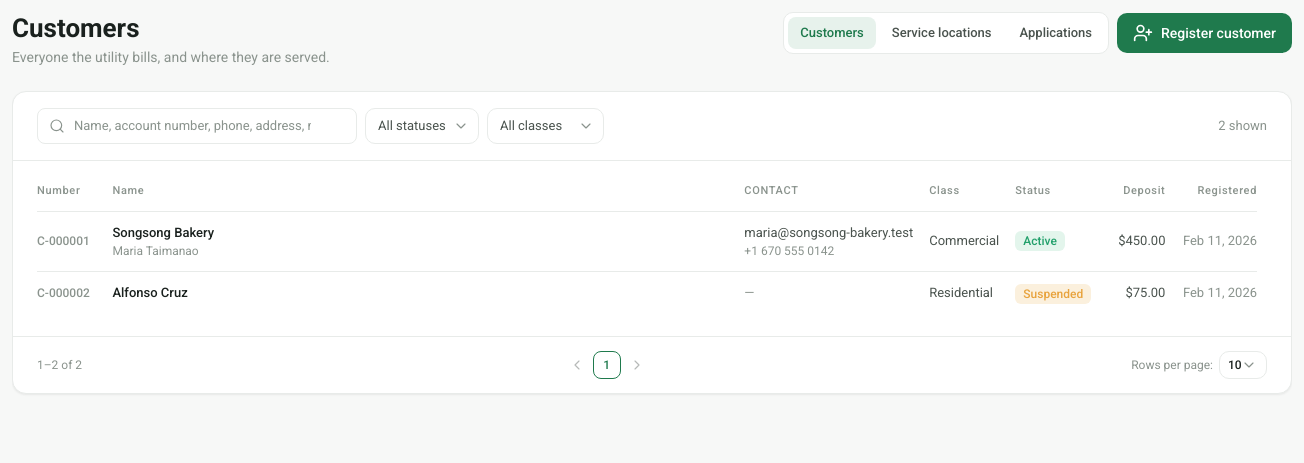
Scenario: CustomersPage › the search field › shows a no-match empty state naming the term
This screenshot has width=1304, height=463.
Expected: the text "Songsong Bakery" is shown, [112,225,214,240]
Type "nobody" into the search field named "Search customers".
click(197, 126); type("nobody")  # box [37,108,357,144]
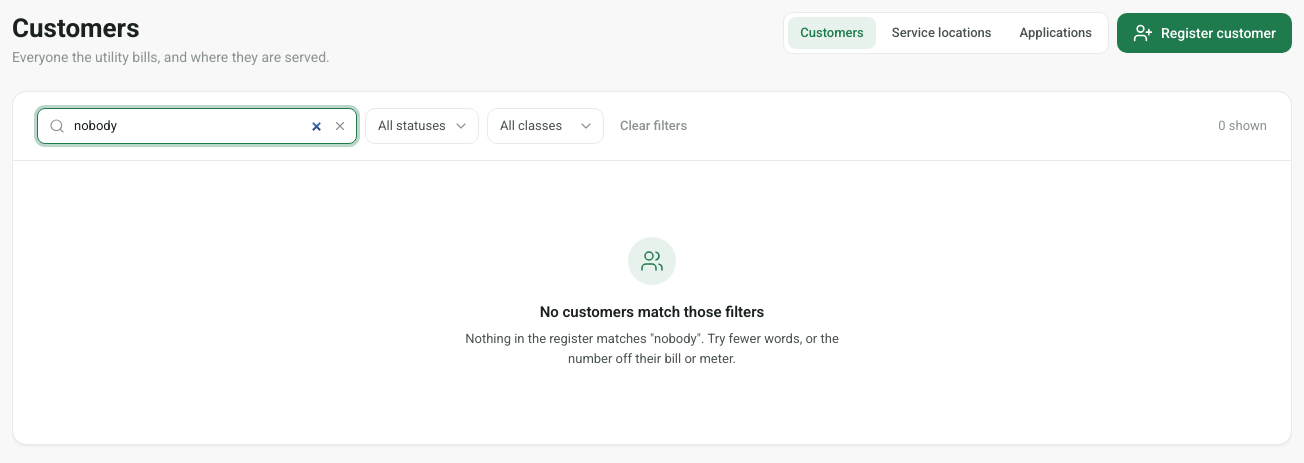
Now the text "Nothing in the register matches \"nobody\"" is shown, box [465,331,839,366]
